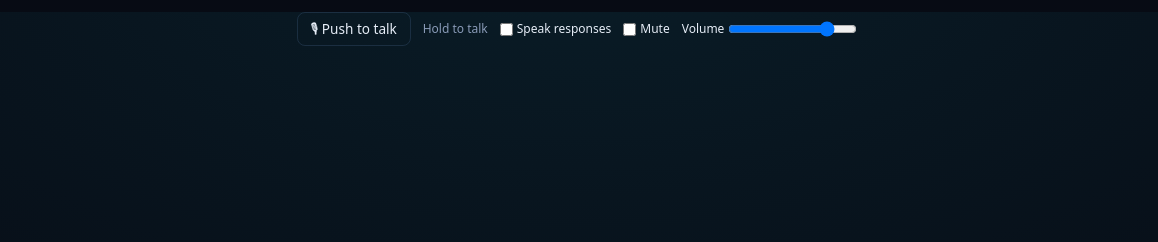
Test case: VoiceControls › explains when no speech-to-text provider is configured and never opens the mic
This screenshot has width=1158, height=242.
Press the mouse on the button "🎙 Push to talk" at (354,29), box [297,12,411,46]
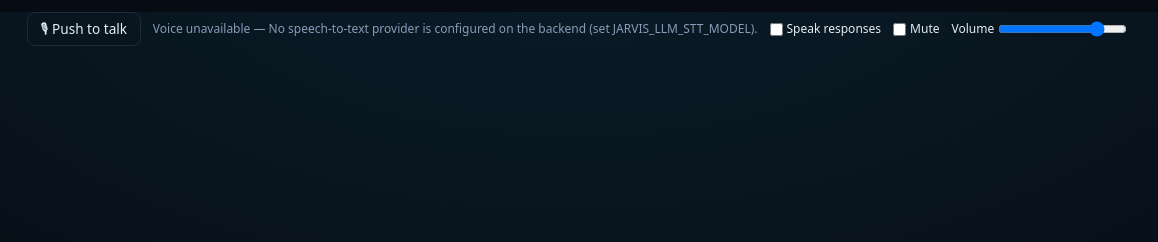
Expected: the text "No speech-to-text provider" is shown, [250,20,758,37]
